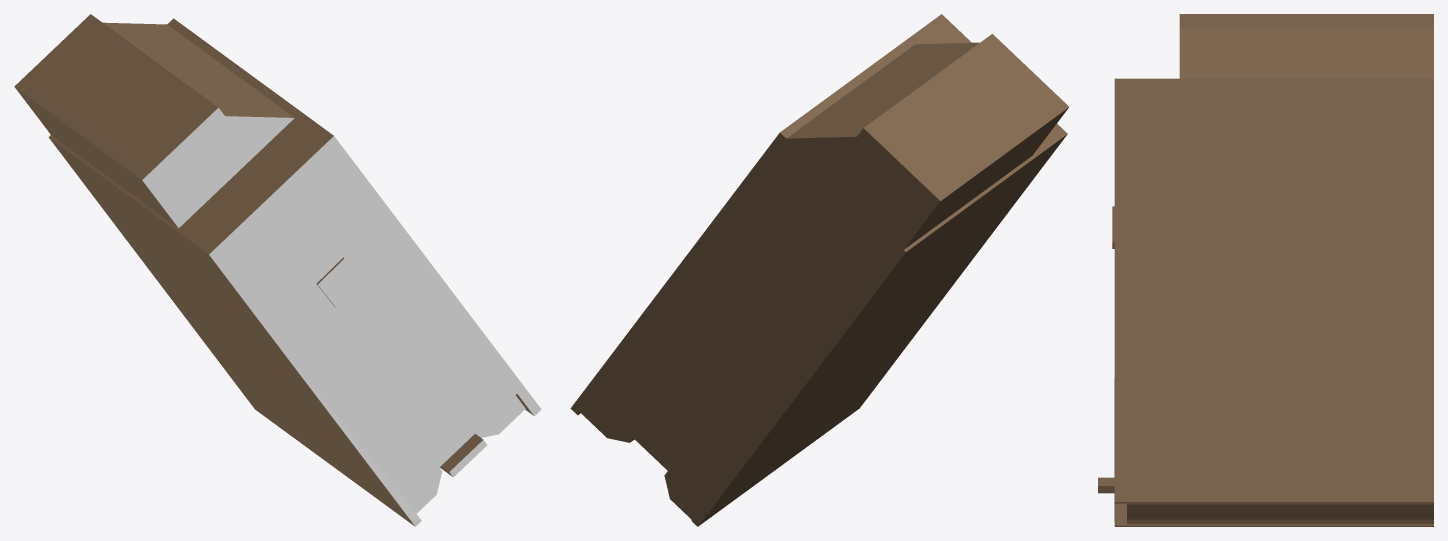
3 renders of one model, left to right at view 1: azimuth 30°, elevation 25°; view 2: azimuth 150°, elevation 25°; view 3: azimuth 270°, elevation 25°, orthographic.
Visible parts, largest first — view 1: City_PC-08754; view 2: City_PC-08754; view 3: City_PC-08754.
Part boxes in pixels (left/top/right/bottom): City_PC-08754: left=14, top=14, right=541, bottom=526; City_PC-08754: left=570, top=14, right=1068, bottom=526; City_PC-08754: left=1098, top=14, right=1433, bottom=526.
Bounding box in the file's own units: 1875 × 2127 × 1494.
